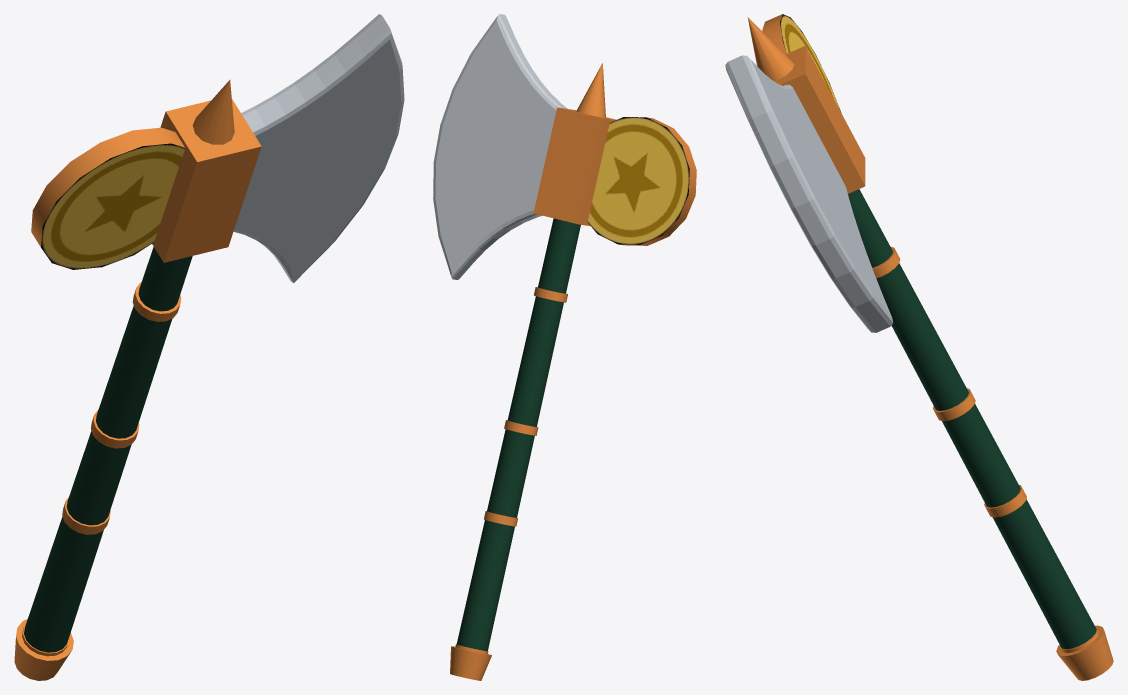
The model's file is hand_eqtz3.glb.
The picture shows the model from 3 angles, left to right: view 1: azimuth 30°, elevation 25°; view 2: azimuth 150°, elevation 25°; view 3: azimuth 270°, elevation 25°; orthographic projection. The views are drawn at different scales.
Bounding box in the file's own units: 2.27 × 4.7 × 2.41.
4 materials, 1 textured.
